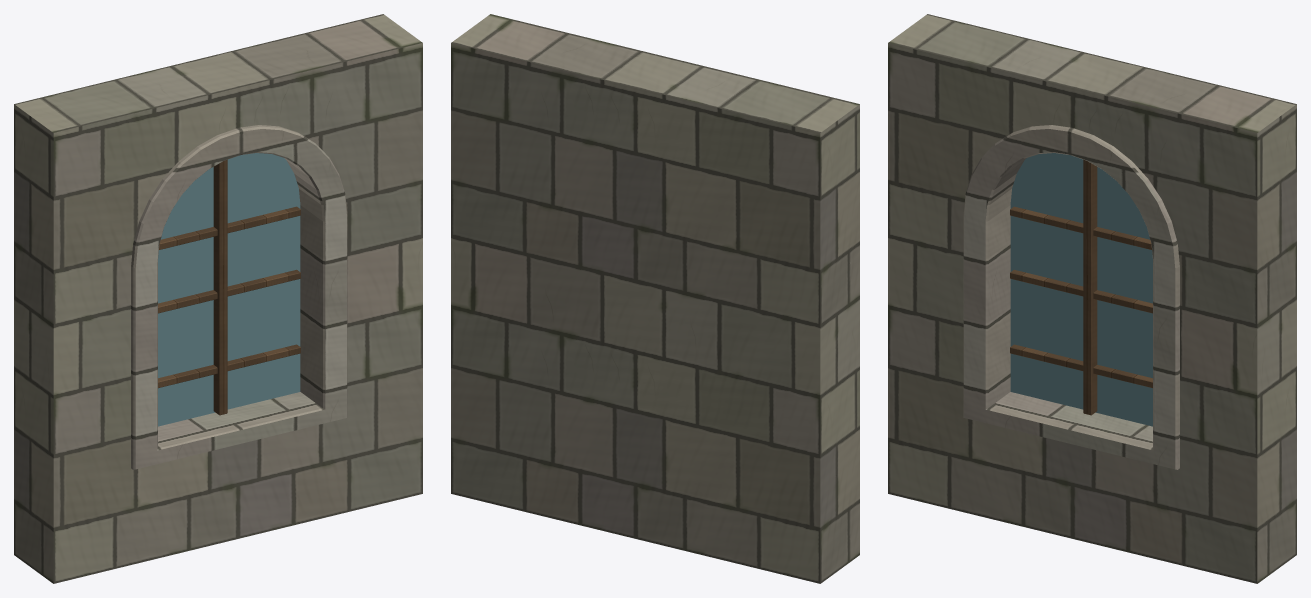
File: Furn_Wall2_Window.fbx
The picture shows the model from 3 angles, left to right: view 1: azimuth 30°, elevation 25°; view 2: azimuth 150°, elevation 25°; view 3: azimuth 330°, elevation 25°; orthographic projection.
Parts seen in each view (by area): view 1: Furn_Wall2_Window; view 2: Furn_Wall2_Window; view 3: Furn_Wall2_Window.
Boxes of the visible parts, x1=… form: Furn_Wall2_Window: x1=14, y1=14, x2=422, y2=583; Furn_Wall2_Window: x1=451, y1=14, x2=859, y2=583; Furn_Wall2_Window: x1=888, y1=14, x2=1296, y2=583.
Bounding box in the file's own units: 3 × 3.5 × 0.6.
